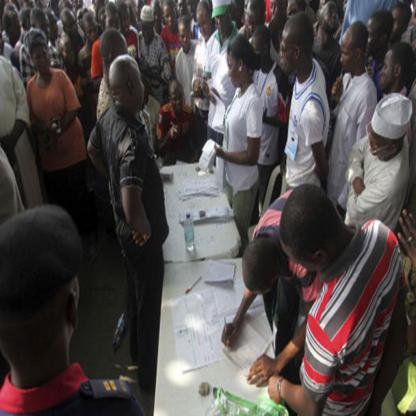face: (134, 66, 146, 111), (381, 51, 395, 89), (282, 33, 295, 72), (34, 45, 50, 76), (372, 129, 388, 160), (116, 41, 130, 74), (38, 12, 52, 44), (228, 54, 240, 87), (342, 39, 354, 72), (270, 1, 284, 28), (62, 40, 76, 66), (217, 10, 230, 37), (367, 23, 378, 54), (253, 37, 263, 67), (165, 5, 177, 30), (326, 6, 339, 29), (173, 89, 184, 115), (199, 13, 210, 38), (87, 21, 99, 43), (393, 10, 402, 39), (248, 13, 260, 34), (180, 23, 190, 48), (49, 13, 58, 38), (143, 19, 153, 40), (66, 19, 77, 38), (13, 13, 22, 36), (108, 14, 118, 33), (123, 9, 130, 31)
